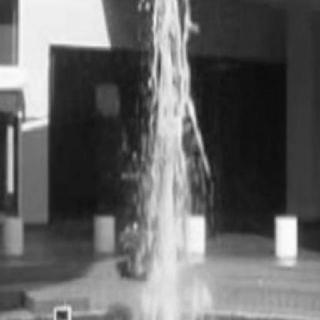other: (137, 179, 207, 310)
